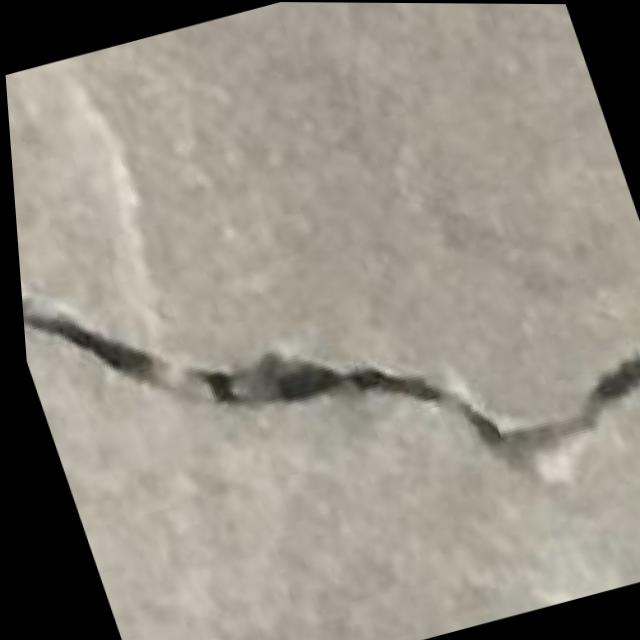Crack: (8, 130, 640, 637)
